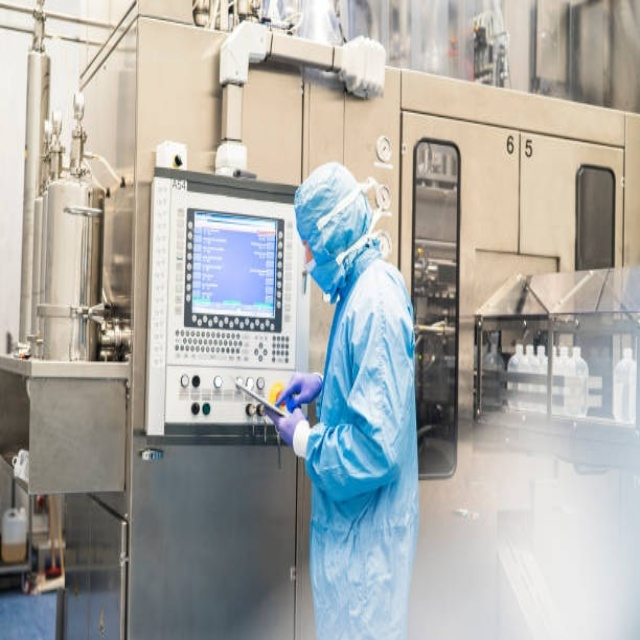Guantes: (278, 372, 324, 414), (267, 405, 307, 450)
Mascara: (306, 246, 344, 301)
